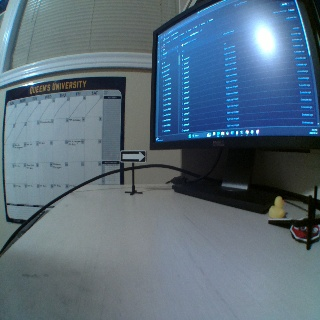sign_oneway_right: (118, 149, 146, 161)
